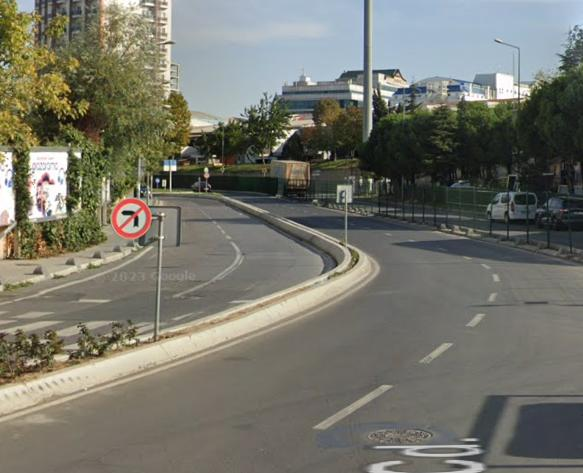leftturnsareforbidden: (113, 199, 151, 239)
